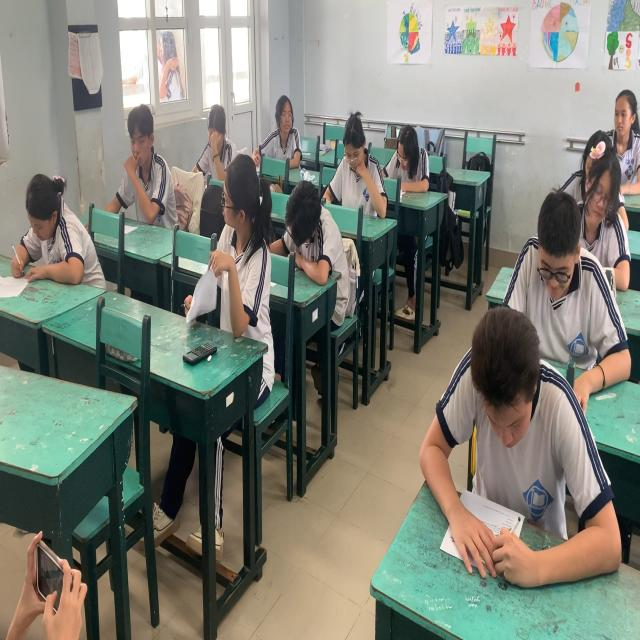cheating: (187, 110, 271, 358), (96, 68, 178, 227)
not_cheating: (384, 216, 589, 520), (514, 205, 634, 366), (1, 101, 86, 283), (554, 95, 640, 260), (271, 158, 356, 324), (563, 42, 640, 186), (325, 96, 391, 252), (246, 68, 312, 172), (374, 91, 436, 200)
